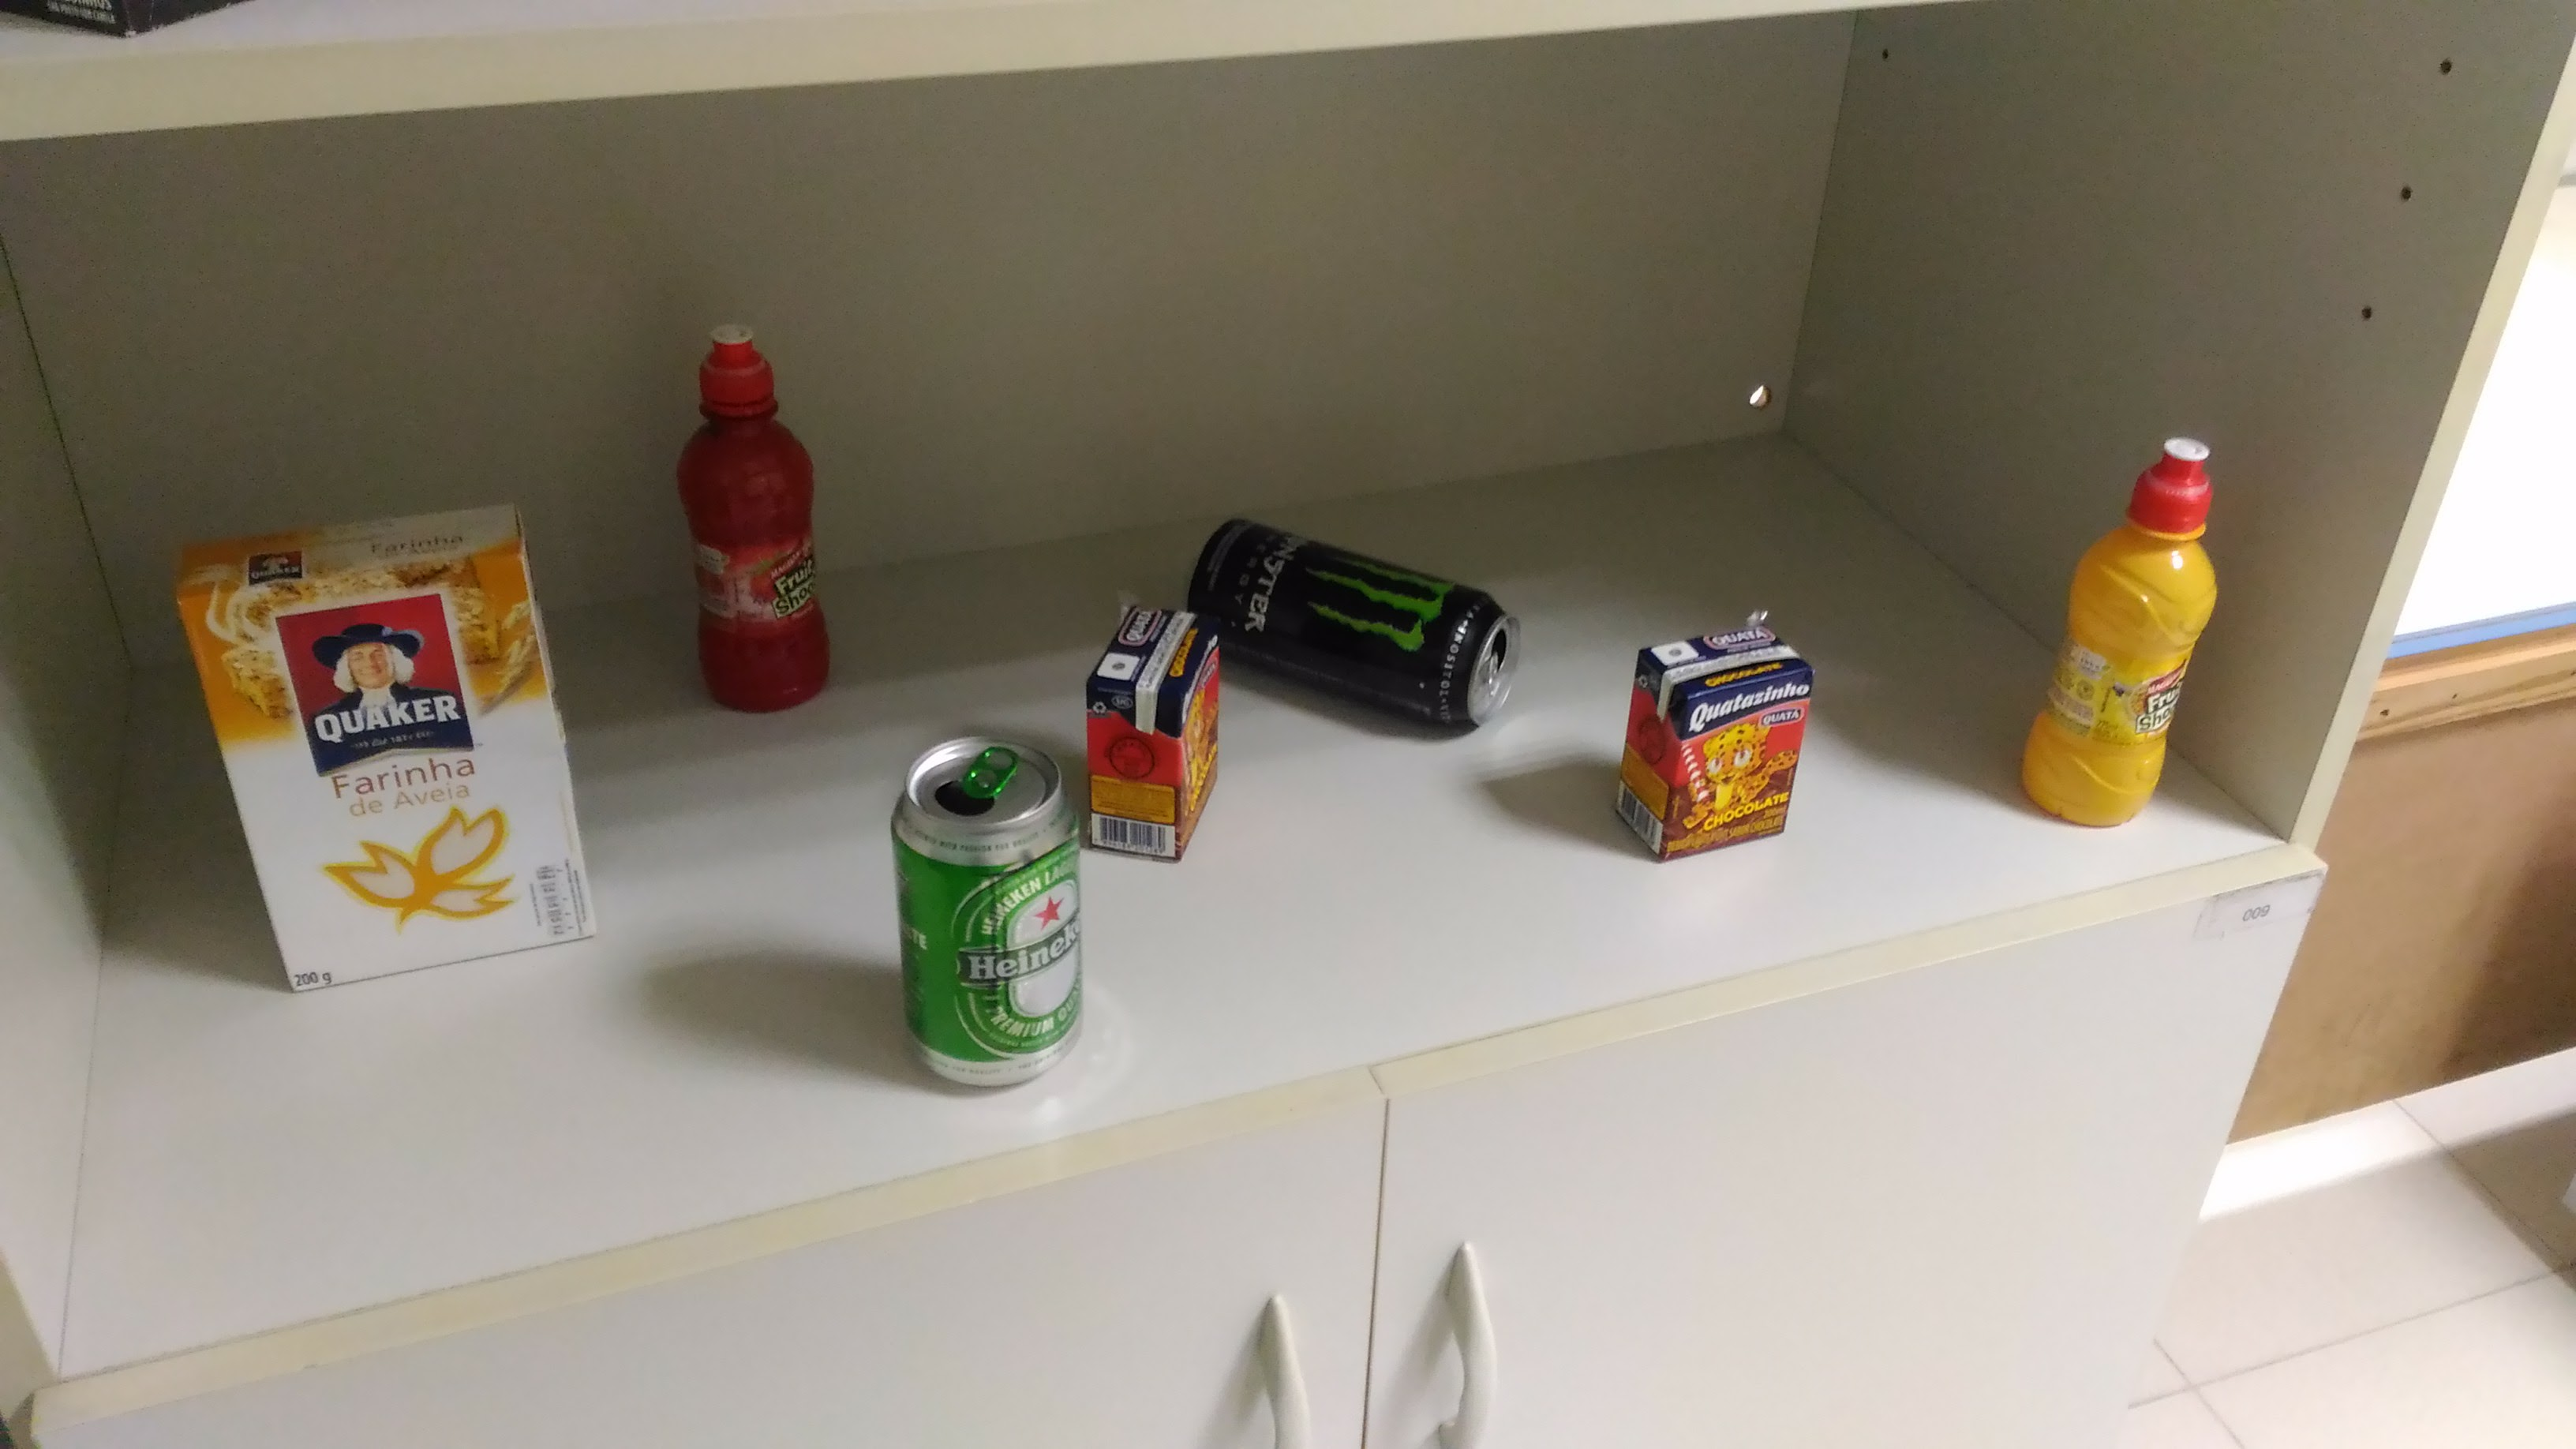cereal: (161, 492, 610, 1012)
chocolate_milk: (1605, 607, 1819, 883), (1072, 571, 1230, 870)
heineken: (883, 713, 1092, 1120)
monster: (1191, 508, 1527, 740)
red_juice: (651, 318, 863, 745)
yellow_juice: (2008, 428, 2224, 851)
